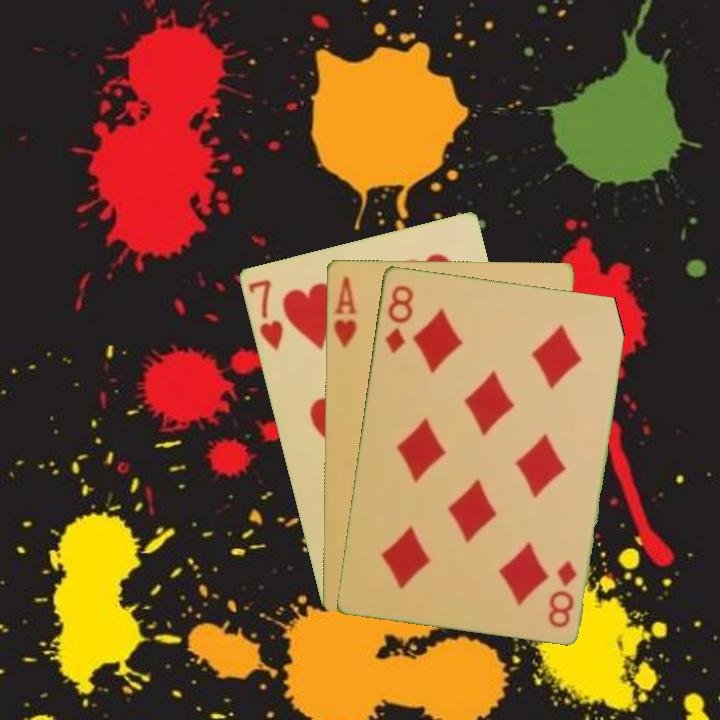7h: (244, 275, 286, 353)
8d: (381, 281, 416, 356), (545, 557, 579, 630)
Ah: (329, 272, 360, 349)
